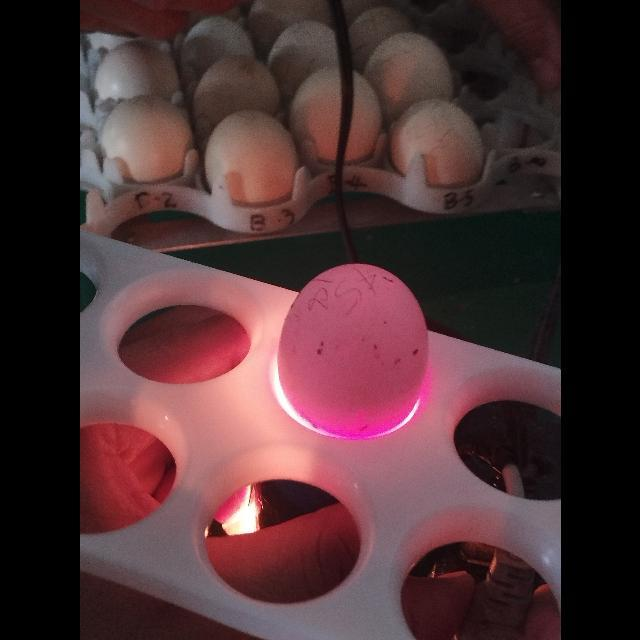Fertile: (282, 263, 432, 439)
